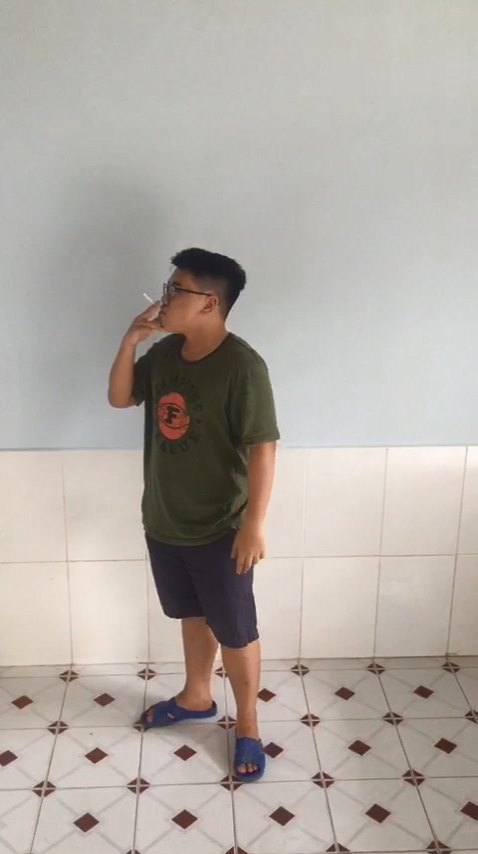cigarette: (137, 286, 163, 311)
person: (84, 221, 329, 802)
